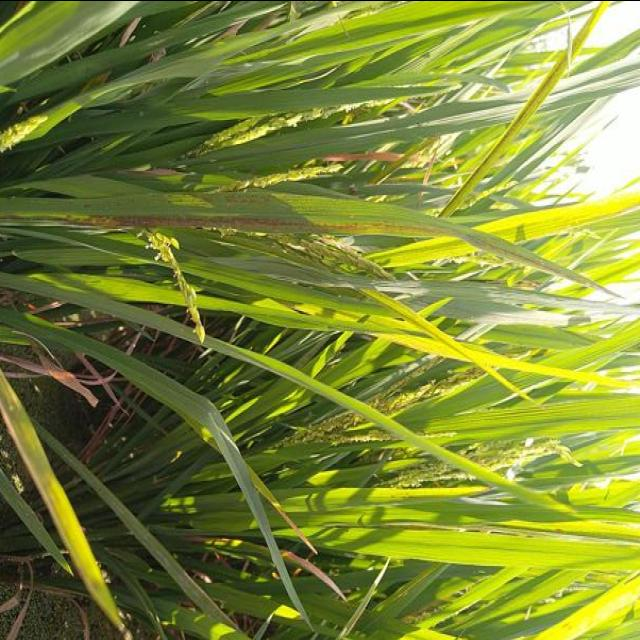Leaf Streak: (66, 211, 453, 235)
